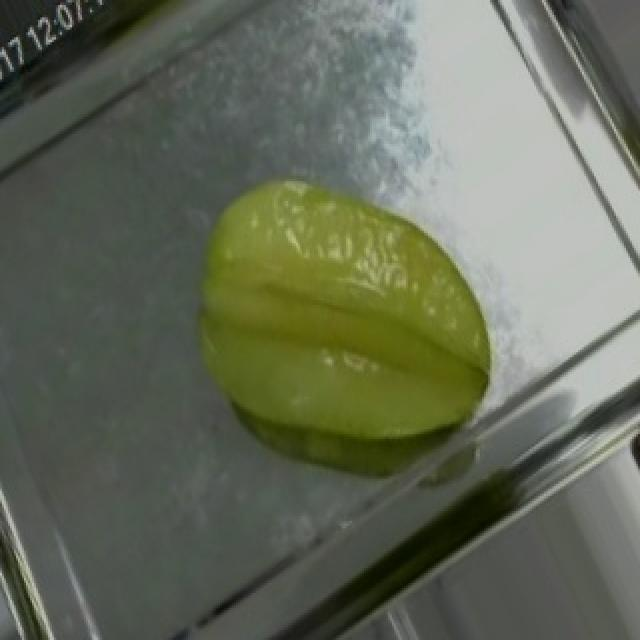fruit: (104, 126, 558, 534)
